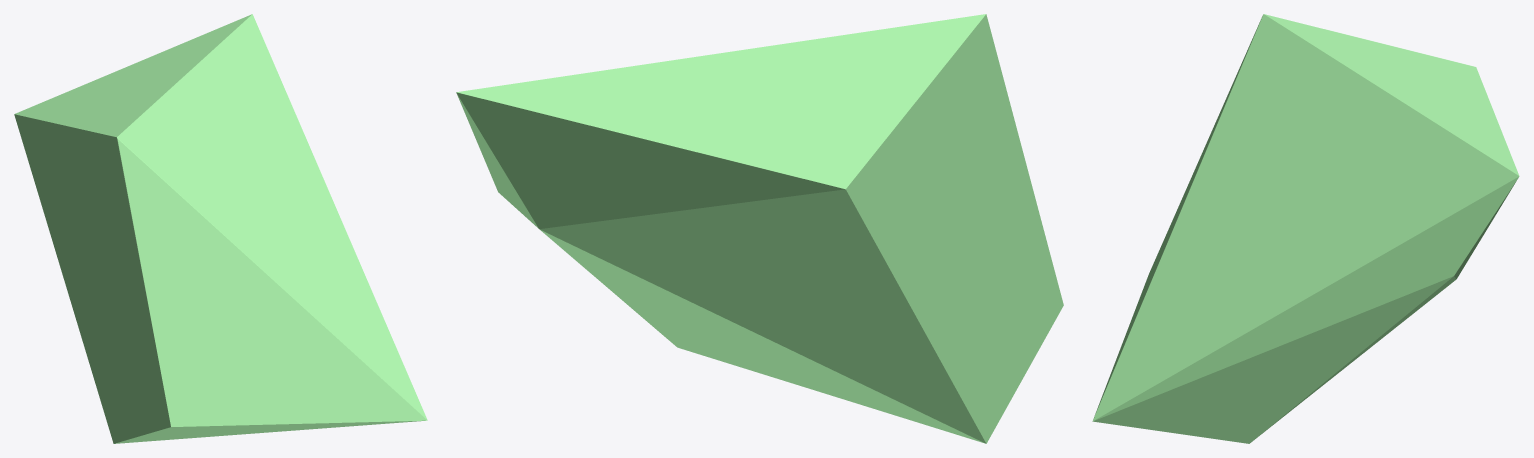
Rendered from linkhou_LR4_R560_link7_respondable_coll_32.dae.
3 renders of one model, left to right at view 1: azimuth 30°, elevation 25°; view 2: azimuth 150°, elevation 25°; view 3: azimuth 270°, elevation 25°, orthographic. The views are drawn at different scales.
Parts seen in each view (by area): view 1: Node_00000209DB3AA780; view 2: Node_00000209DB3AA780; view 3: Node_00000209DB3AA780.
Part boxes in pixels (box(x1,y1,x2,y2)): Node_00000209DB3AA780: box(14, 14, 427, 443); Node_00000209DB3AA780: box(456, 14, 1063, 443); Node_00000209DB3AA780: box(1092, 14, 1519, 443).
Bounding box in the file's own units: 0.0091 × 0.0102 × 0.0124.
